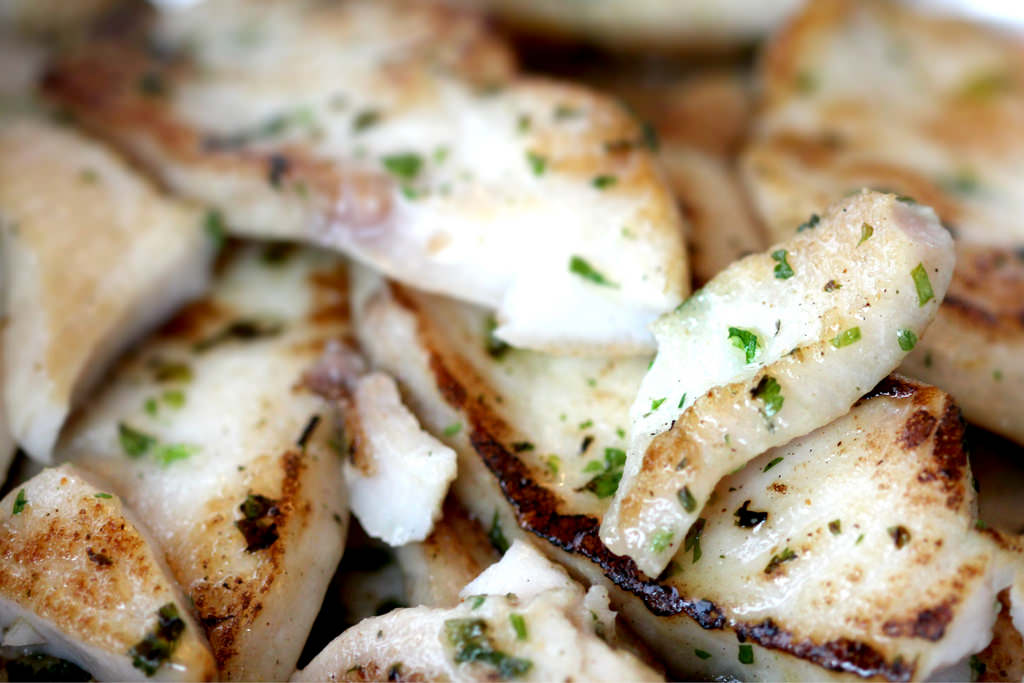slice of bread: (622, 243, 965, 433)
